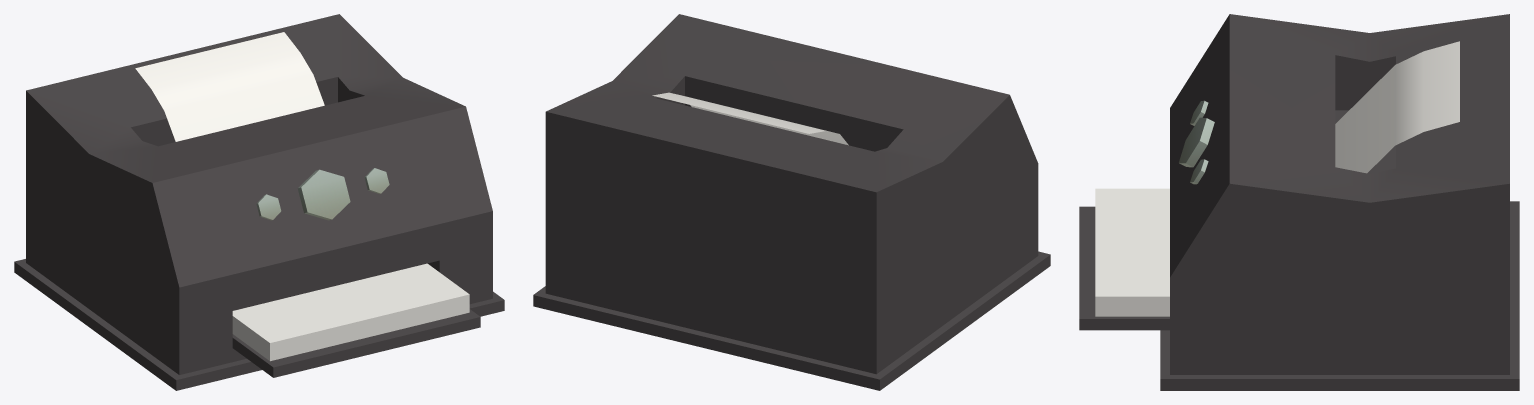
Rendered from SM_Printer_1_02.fbx.
3 renders of one model, left to right at view 1: azimuth 30°, elevation 25°; view 2: azimuth 150°, elevation 25°; view 3: azimuth 270°, elevation 25°, orthographic. The views are drawn at different scales.
Parts seen in each view (by area): view 1: SM_Printer_1_02; view 2: SM_Printer_1_02; view 3: SM_Printer_1_02.
Part boxes in pixels (x1,y1,x2,y2): SM_Printer_1_02: (14,14,504,390); SM_Printer_1_02: (533,14,1050,390); SM_Printer_1_02: (1079,14,1519,390).
Bounding box in the file's own units: 39.46 × 23.06 × 41.31.
